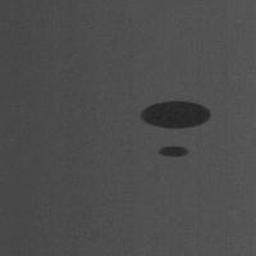Oil spot: (141, 101, 210, 129), (160, 146, 187, 157)
